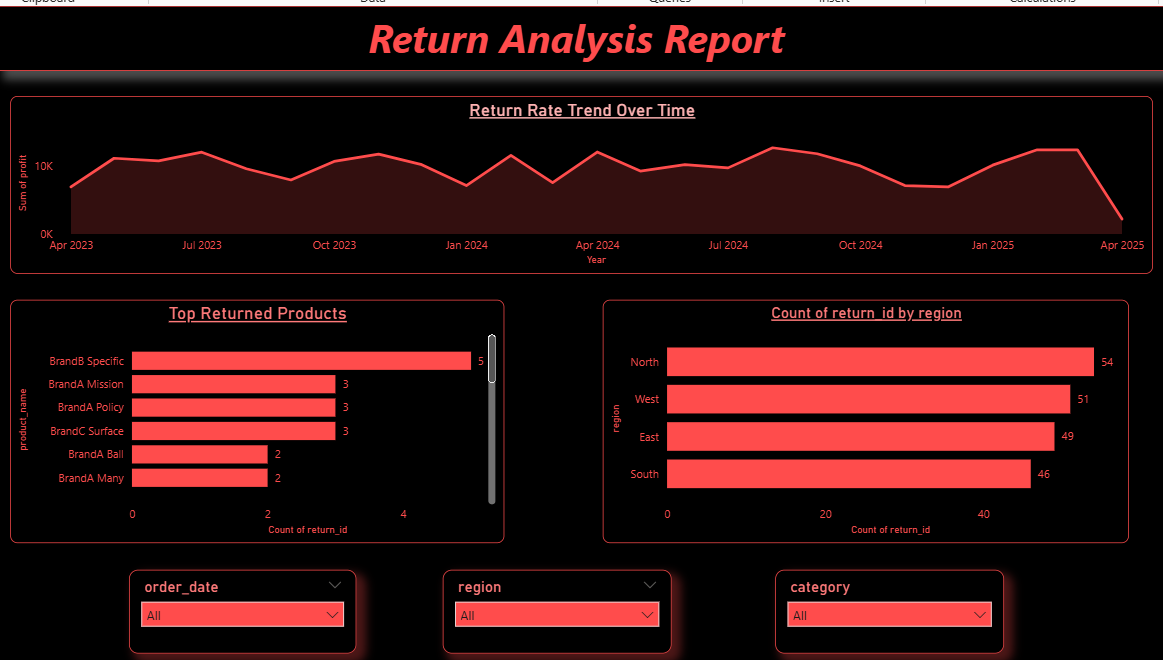

The dashboard page shown, as its layout file describes it:
{"tool":"powerbi","page":{"name":"Return Analysis","canvas":[1280,720],"ordinal":4},"visuals":[{"type":"lineChart","title":"Return Rate Trend Over Time","fields":{"Category":["sales_cleaned.order_date.Variation.Date Hierarchy.Year","sales_cleaned.order_date.Variation.Date Hierarchy.Month"],"Y":["Sum(sales_cleaned.profit)"]},"box":[12.1,98.9,1254.7,195.4],"z":0},{"type":"barChart","fields":{"Category":["customers_cleaned.region"],"Y":["CountNonNull(returns_cleaned.return_id)"]},"box":[662.8,322.5,577.7,267.6],"z":1000},{"type":"slicer","fields":{"Values":["products_cleaned.category"]},"box":[852.1,618.9,251.1,91.9],"z":2000},{"type":"slicer","fields":{"Values":["customers_cleaned.region"]},"box":[487.1,618.9,251.1,91.9],"z":3000},{"type":"slicer","fields":{"Values":["sales_cleaned.order_date"]},"box":[142.7,618.9,249.7,91.9],"z":4000},{"type":"barChart","title":"Top Returned Products","fields":{"Y":["CountNonNull(returns_cleaned.return_id)"],"Category":["products_cleaned.product_name"]},"box":[12.3,322.5,542,267.6],"z":5000},{"type":"textbox","box":[0,0,1280,71.2],"z":6000}]}

Visuals, with their boxes on the page's 1280x720 design canvas (x1, y1, x2, y2). These are canvas units, not pixel positions in the 1163x660 screenshot, which may show the page scaled, cropped or inside an application window:
"Return Rate Trend Over Time" lineChart: left=12, top=99, right=1267, bottom=294
barChart - customers_cleaned.region x CountNonNull(returns_cleaned.return_id): left=663, top=322, right=1240, bottom=590
slicer - products_cleaned.category: left=852, top=619, right=1103, bottom=711
slicer - customers_cleaned.region: left=487, top=619, right=738, bottom=711
slicer - sales_cleaned.order_date: left=143, top=619, right=392, bottom=711
"Top Returned Products" barChart: left=12, top=322, right=554, bottom=590
textbox: left=0, top=0, right=1280, bottom=71
